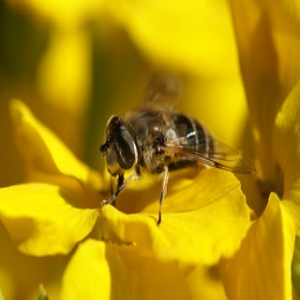bee: (98, 64, 262, 230)
